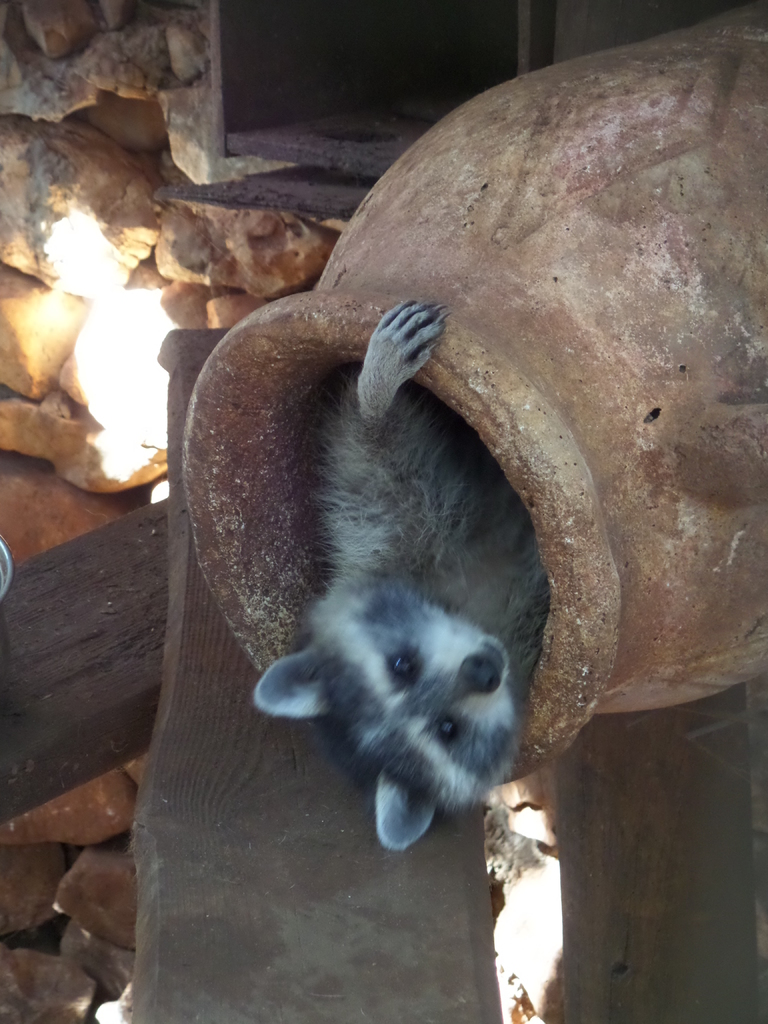raccoon: (252, 300, 545, 848)
